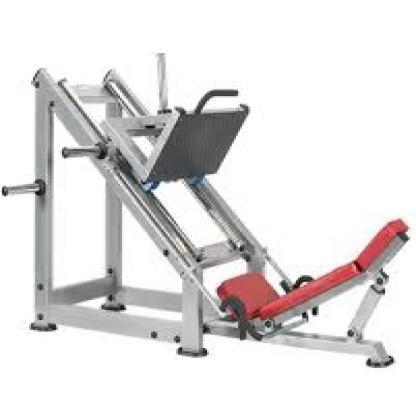leg press: (2, 47, 416, 371)
